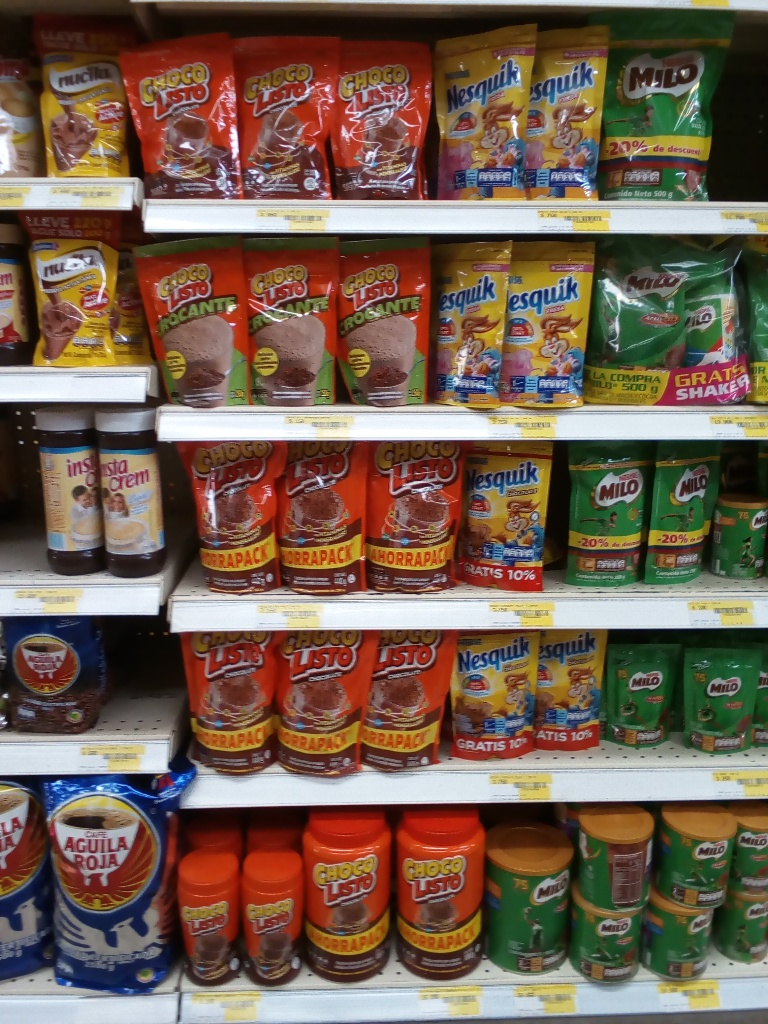COL0170102DYP25000: (339, 236, 434, 409)
COL0170103DYP44000: (363, 437, 461, 597)
COL0170103TRR00100: (396, 807, 491, 984)
COL0170103TRR30000: (241, 846, 305, 988)
COL0170203DYP10000: (682, 646, 759, 755)
COL0170203DYP25000: (649, 439, 717, 585)
COL0170203DYP50000: (602, 8, 733, 203)
COL0170203LAT20000: (711, 491, 767, 585)
COL0170203LAT40000: (647, 893, 725, 980)
COL0170303DYP20000: (536, 629, 607, 754)
COL0170305DYP20000: (525, 21, 609, 205)
